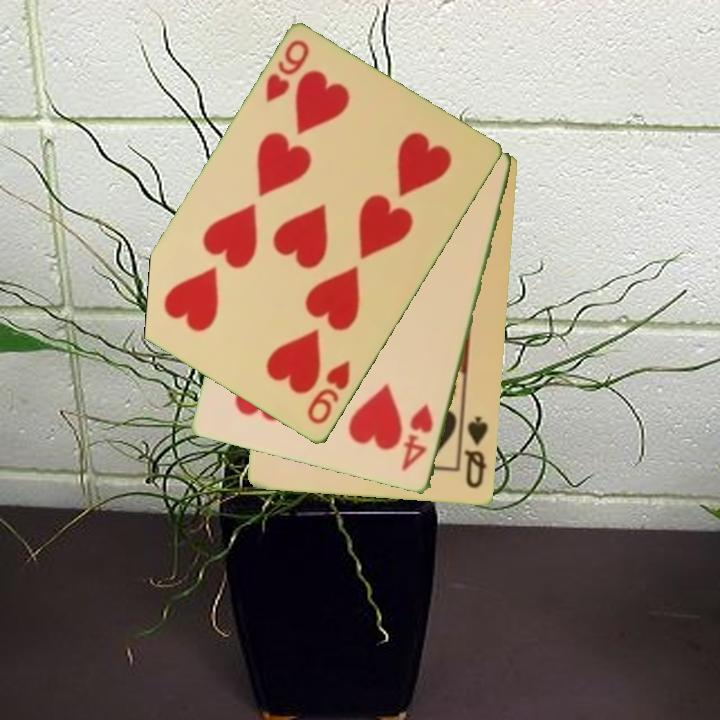4h: (398, 401, 437, 475)
9h: (303, 357, 354, 428), (262, 36, 313, 107)
Qs: (461, 413, 492, 492)
